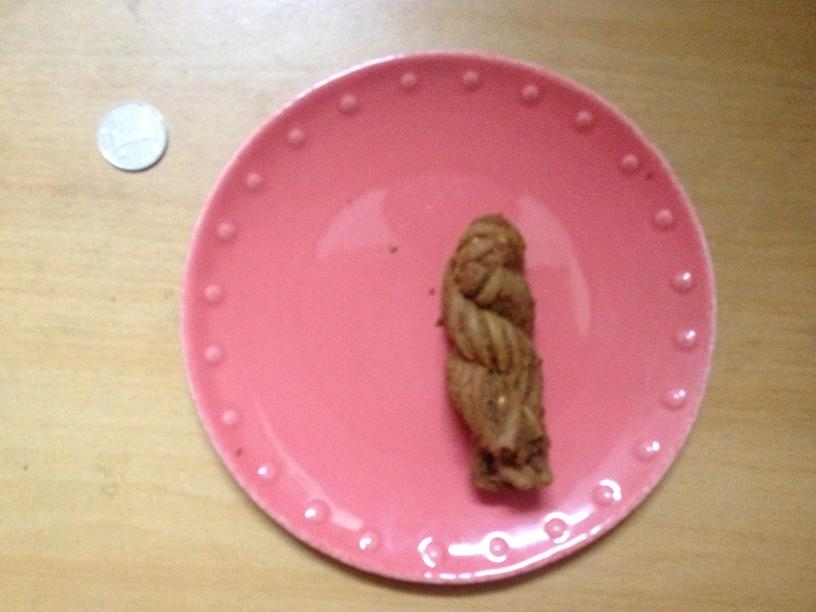coin: (95, 103, 168, 172)
fired_dough_twist: (444, 210, 552, 489)
